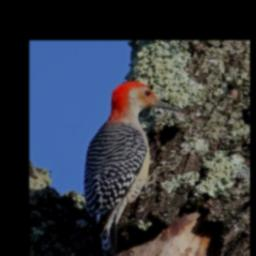Woodpecker: (82, 79, 180, 256)
